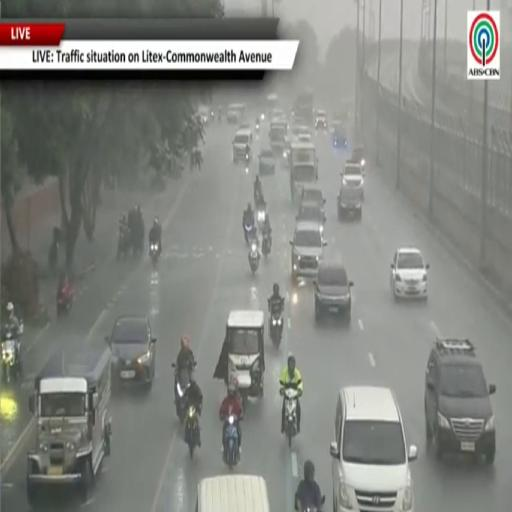car: (330, 387, 417, 511), (425, 338, 495, 463), (106, 315, 156, 390), (314, 262, 353, 322), (290, 222, 326, 281), (390, 247, 429, 299), (337, 163, 364, 220), (296, 202, 326, 233), (233, 128, 253, 163), (300, 186, 325, 213), (331, 121, 347, 148), (259, 149, 275, 175), (227, 104, 245, 123), (351, 147, 365, 170), (198, 106, 211, 125), (315, 110, 327, 130), (298, 134, 311, 141), (238, 123, 251, 130)
jeepney: (27, 348, 111, 504), (289, 142, 318, 200), (268, 117, 288, 158)
motorcycle: (172, 363, 191, 424), (282, 388, 299, 446), (2, 329, 19, 385), (224, 415, 239, 469), (185, 406, 199, 458), (57, 283, 74, 317), (270, 309, 283, 346), (297, 495, 325, 511), (117, 230, 131, 260), (248, 242, 260, 274), (256, 201, 266, 229), (262, 231, 271, 258), (244, 223, 255, 245), (150, 243, 159, 264), (210, 110, 216, 121), (256, 122, 260, 132)
